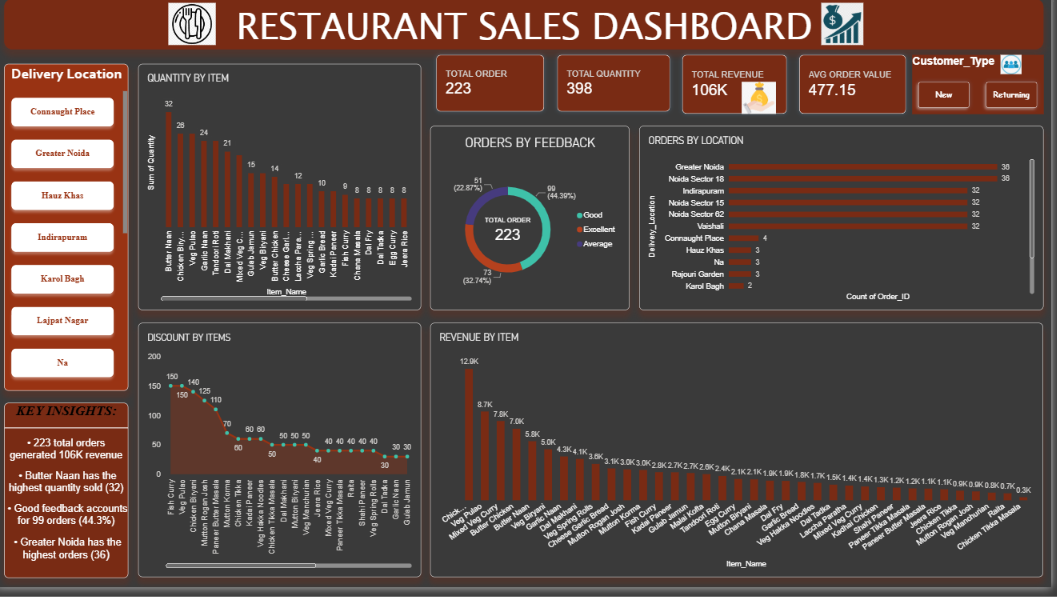

The page's visual inventory and layout, read from the dashboard file:
{"tool":"powerbi","page":{"name":"Page 1","canvas":[1920,1080],"ordinal":0},"visuals":[{"type":"textbox","title":"RESTAURANT SALES DASHBOARD","box":[16.7,10.4,1889.6,91.7],"z":0},{"type":"clusteredColumnChart","title":"REVENUE BY ITEM","fields":{"Category":["CLEAN DATA.Item_Name"],"Y":["Sum(CLEAN DATA.NET AMOUNT)"]},"box":[791.7,600,1114.6,462.5],"z":1000},{"type":"clusteredBarChart","title":"ORDERS BY LOCATION","fields":{"Category":["CLEAN DATA.Delivery_Location"],"Y":["CountNonNull(CLEAN DATA.Order_ID)"]},"box":[1170.8,241.7,735.4,335.4],"z":2000},{"type":"donutChart","title":"ORDERS BY FEEDBACK","fields":{"Category":["CLEAN DATA.Feedback"],"Y":["CLEAN DATA.TOTAL ORDER"]},"box":[791.7,241.7,362.5,335.4],"z":3000},{"type":"areaChart","title":"DISCOUNT BY ITEMS","fields":{"Category":["CLEAN DATA.Item_Name"],"Y":["Sum(CLEAN DATA.DISCOUNT)"]},"box":[260.4,600,514.6,462.5],"z":4000},{"type":"cardVisual","fields":{"Data":["CLEAN DATA.TOTAL ORDER"]},"box":[791.7,102.1,218.8,125],"z":5000},{"type":"cardVisual","fields":{"Data":["CLEAN DATA.TOTAL QUANTITY"]},"box":[1010.4,102.1,227.1,125],"z":6000},{"type":"cardVisual","fields":{"Data":["CLEAN DATA.TOTAL REVENUE"]},"box":[1237.5,102.1,212.5,129.2],"z":7000},{"type":"cardVisual","fields":{"Data":["CLEAN DATA.AVG ORDER VALUE"]},"box":[1450,102.1,216.7,129.2],"z":8000},{"type":"advancedSlicerVisual","fields":{"Values":["CLEAN DATA.Customer_Type"]},"box":[1666.7,112.5,239.6,108.3],"z":9000},{"type":"lineStackedColumnComboChart","title":"QUANTITY BY ITEM","fields":{"Category":["CLEAN DATA.Item_Name"],"Y":["Sum(CLEAN DATA.Quantity)"]},"box":[260.4,129.2,514.6,447.9],"z":10000},{"type":"image","box":[1475,18.8,131.2,77.1],"z":11000},{"type":"image","box":[1818.8,112.5,58.3,35.4],"z":12000},{"type":"image","box":[1343.8,162.5,89.6,58.3],"z":13000},{"type":"image","box":[195.8,18.8,322.9,77.1],"z":14000},{"type":"advancedSlicerVisual","title":"Delivery Location","fields":{"Values":["CLEAN DATA.Delivery_Location"]},"box":[16.4,129.1,225.5,594.5],"z":15000},{"type":"textbox","title":"KEY INSIGHTS:","box":[16.4,745.5,225.5,318.2],"z":16000}]}

Visuals, with their boxes in screenshot pixels (x1, y1, x2, y2), scaled from the page's 1920x1080 canvas onto the 1057x597 screenshot:
"RESTAURANT SALES DASHBOARD" textbox: (9,6,1049,56)
"REVENUE BY ITEM" clusteredColumnChart: (436,332,1049,587)
"ORDERS BY LOCATION" clusteredBarChart: (645,134,1049,319)
"ORDERS BY FEEDBACK" donutChart: (436,134,635,319)
"DISCOUNT BY ITEMS" areaChart: (143,332,427,587)
cardVisual - CLEAN DATA.TOTAL ORDER: (436,56,556,126)
cardVisual - CLEAN DATA.TOTAL QUANTITY: (556,56,681,126)
cardVisual - CLEAN DATA.TOTAL REVENUE: (681,56,798,128)
cardVisual - CLEAN DATA.AVG ORDER VALUE: (798,56,918,128)
advancedSlicerVisual - CLEAN DATA.Customer_Type: (918,62,1049,122)
"QUANTITY BY ITEM" lineStackedColumnComboChart: (143,71,427,319)
image: (812,10,884,53)
image: (1001,62,1033,82)
image: (740,90,789,122)
image: (108,10,286,53)
"Delivery Location" advancedSlicerVisual: (9,71,133,400)
"KEY INSIGHTS:" textbox: (9,412,133,588)
